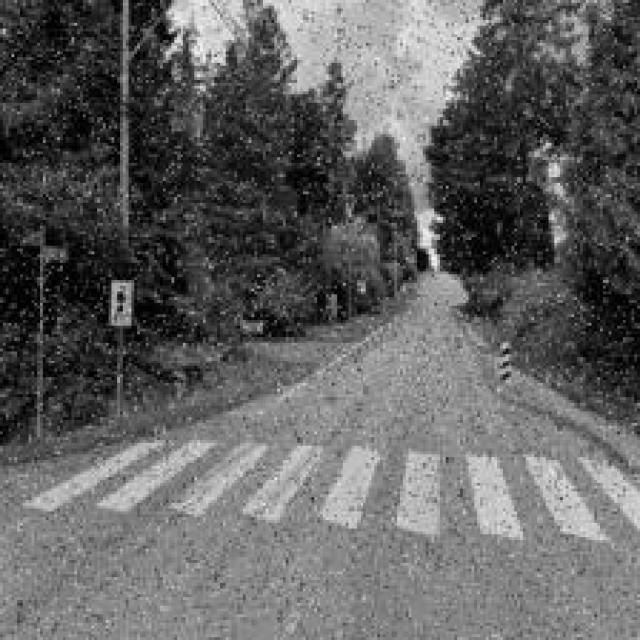crosswalk: (20, 430, 640, 571)
